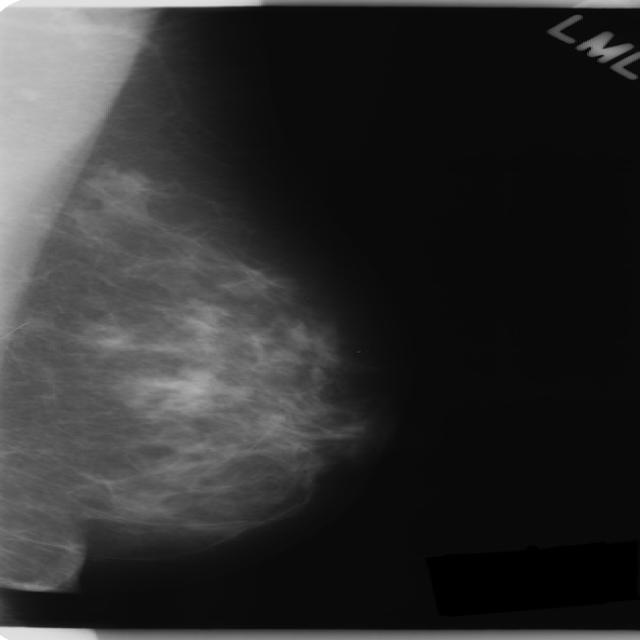tumour: (85, 168, 148, 208)
